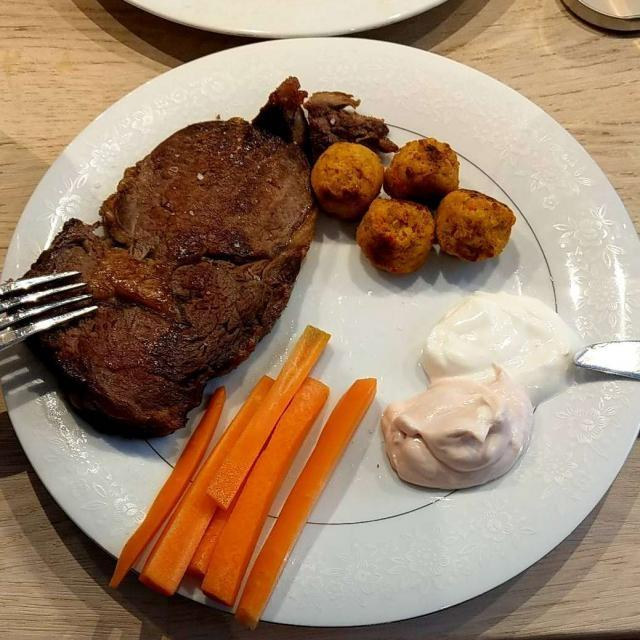beef: (33, 133, 321, 454)
carrot: (120, 339, 370, 621)
falafel-balls: (316, 138, 534, 278)
mayonnaise: (382, 290, 588, 501)
